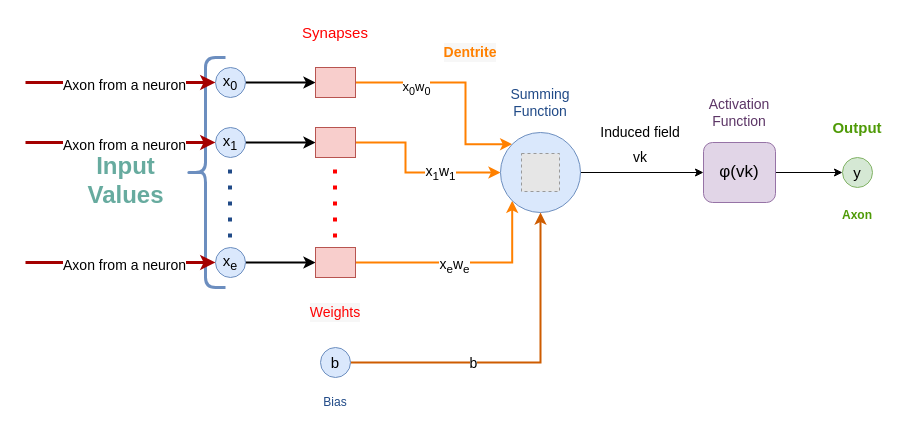
Image size: 905x434. Some labels were removed from this diagram. Grey dashed boxes stand in for pictures. The centre of each missing label's shape, as x and y in pixels:
"w 0" goes at (x=335, y=82).
"w 2" goes at (x=335, y=142).
"w e" goes at (x=335, y=262).
